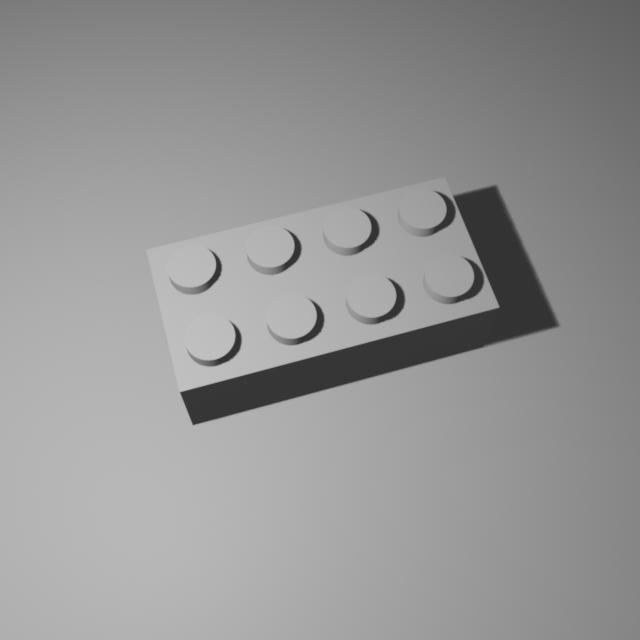lego_2x4: (143, 168, 502, 426)
